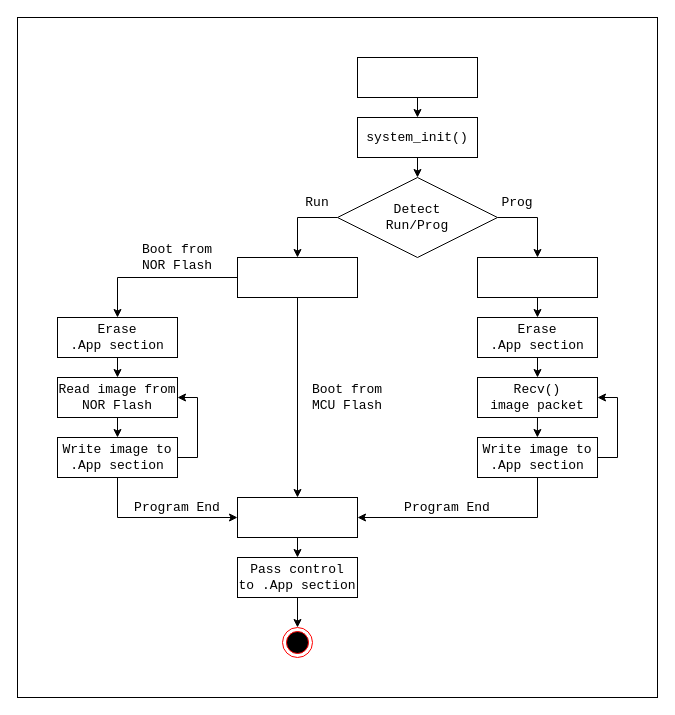
Some shapes in this 675 by 715 pixel diagram are drawn without their labels. Each missing label, with the centre of its shape:
"Establish connection" goes at [537,277].
"Reset" goes at [417,77].
"Select Boot partition" goes at [297,277].
"system_deinit()" goes at [297,517].
